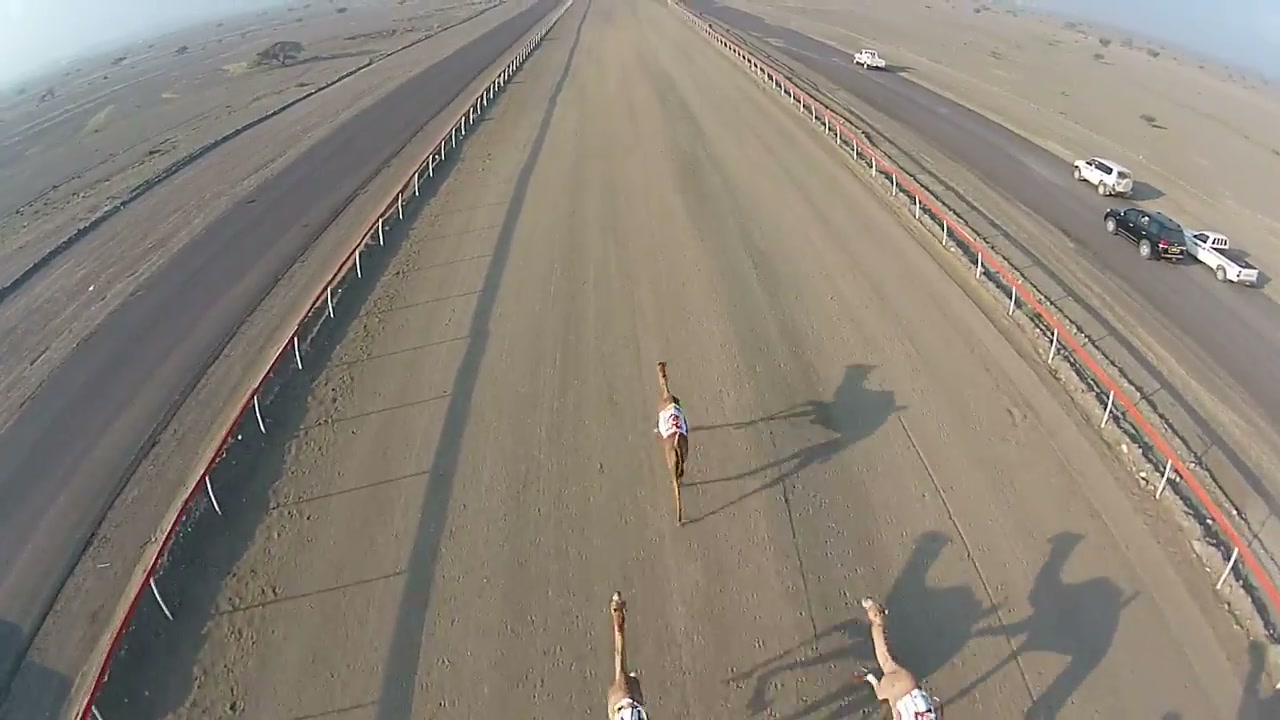animal_footprint: (666, 526, 826, 719), (439, 508, 477, 709)
